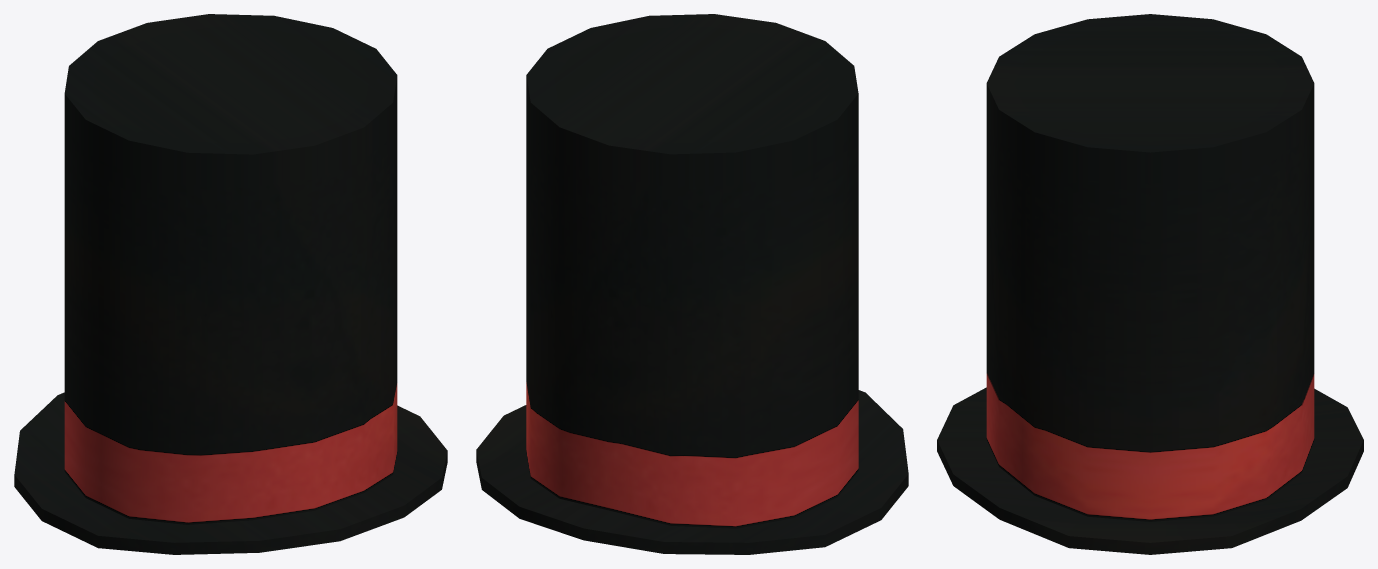
File: TopHat.fbx
3 renders of one model, left to right at view 1: azimuth 30°, elevation 25°; view 2: azimuth 150°, elevation 25°; view 3: azimuth 270°, elevation 25°, orthographic. The views are drawn at different scales.
Parts seen in each view (by area): view 1: Cylinder; view 2: Cylinder; view 3: Cylinder.
Boxes of the visible parts, left/top/right/bottom form: Cylinder: left=14, top=14, right=447, bottom=554; Cylinder: left=476, top=14, right=908, bottom=554; Cylinder: left=937, top=14, right=1363, bottom=554.
Bounding box in the file's own units: 260 × 257 × 260.
Materials: 1 (1 with a texture image).
